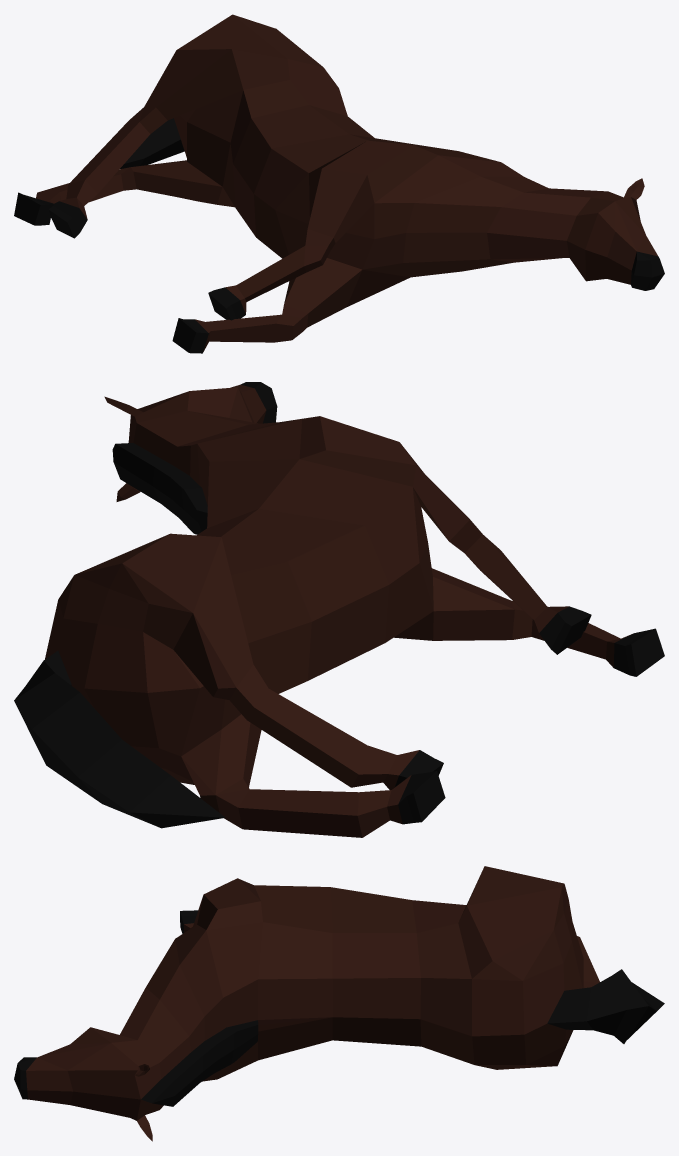
File: Horse_000017.obj
3 renders of one model, top to bottom at view 1: azimuth 30°, elevation 25°; view 2: azimuth 150°, elevation 25°; view 3: azimuth 270°, elevation 25°, orthographic. The views are drawn at different scales.
Parts seen in each view (by area): view 1: Horse_Cylinder; view 2: Horse_Cylinder; view 3: Horse_Cylinder.
Part boxes in pixels (x1,y1,x2,y2): Horse_Cylinder: (14, 14, 664, 353); Horse_Cylinder: (14, 382, 664, 837); Horse_Cylinder: (14, 866, 664, 1141).
Bounding box in the file's own units: 7.38 × 2.72 × 9.12.
